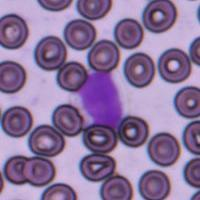L: (74, 70, 125, 127)
